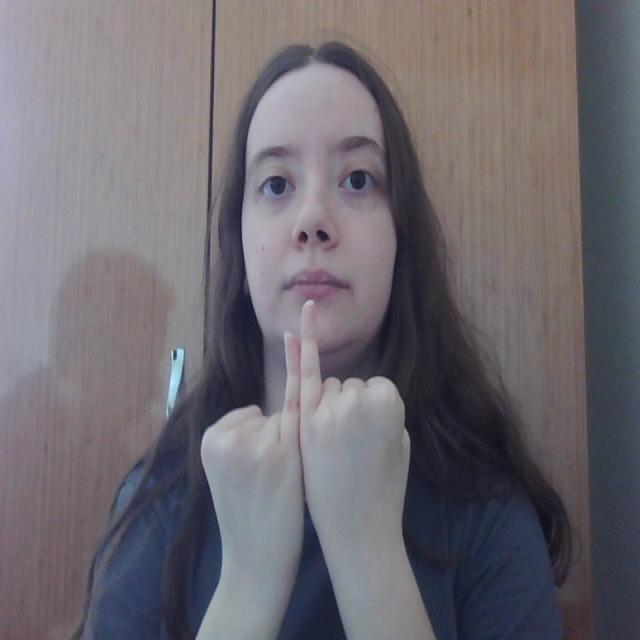Kardes: (192, 296, 414, 588)
